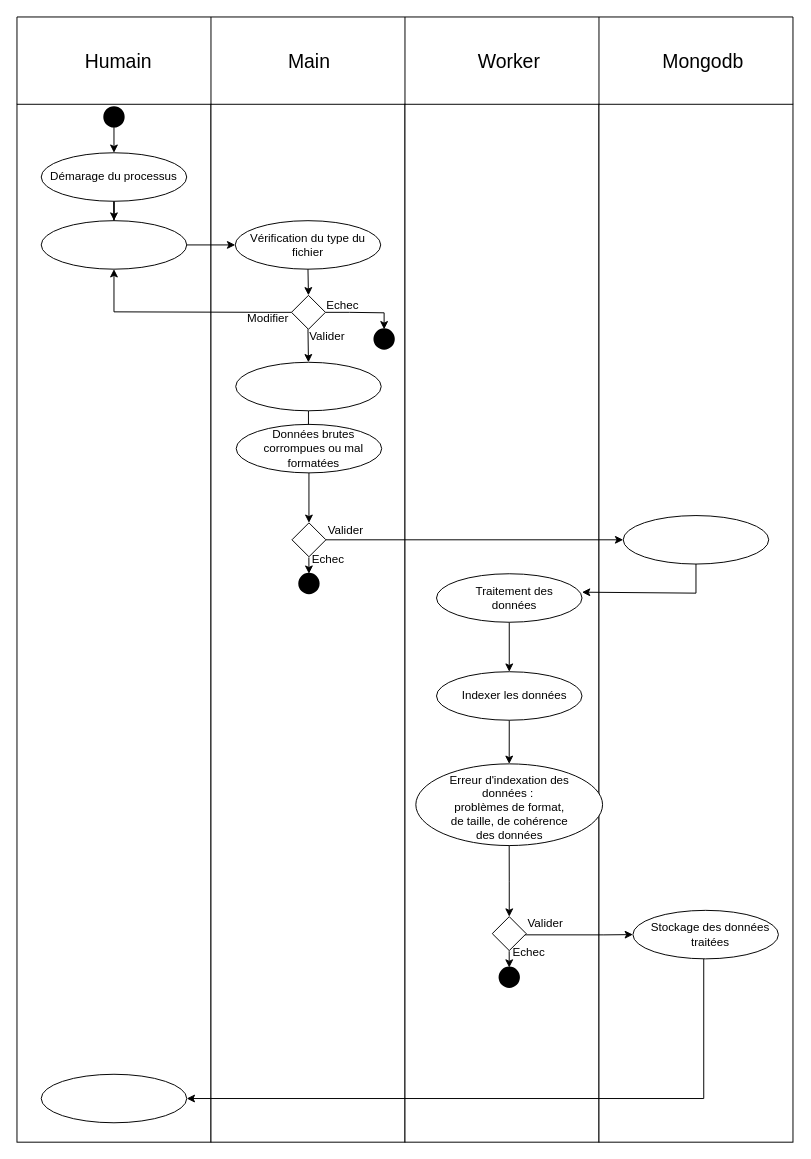
The diagram is 811 pixels wide and 1159 high, and some of its shapes have lost their labels. The centre of each missing label's shape, as x and y in pixels:
"Charger les données" goes at (x=308, y=386).
"Fin du processus" goes at (x=113, y=1098).
"Stockage des données" goes at (x=695, y=539).
"Sélection des données" goes at (x=113, y=244).
